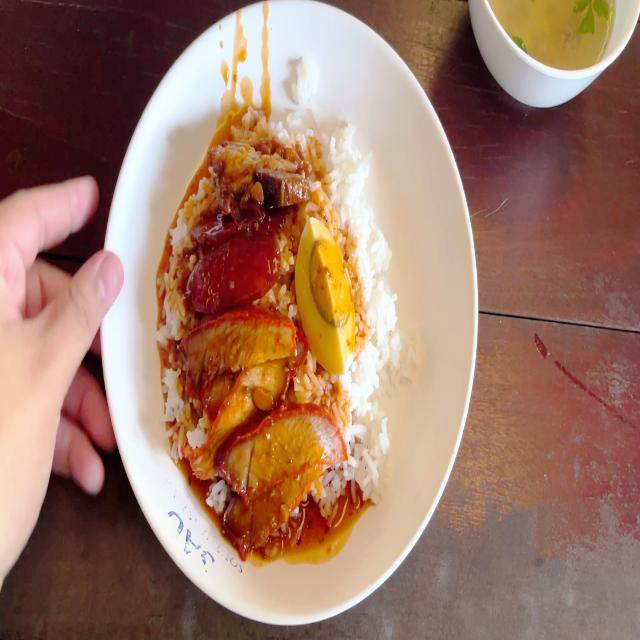boiled_egg: (306, 217, 354, 367)
chainese_sausage: (188, 208, 284, 302)
crispy_pork: (220, 140, 307, 208)
red_pork: (187, 312, 302, 544), (299, 400, 345, 489)
red_pork_and_crispy_pork: (181, 124, 402, 508)
rice: (356, 219, 396, 393), (308, 122, 374, 214), (347, 381, 388, 497)
